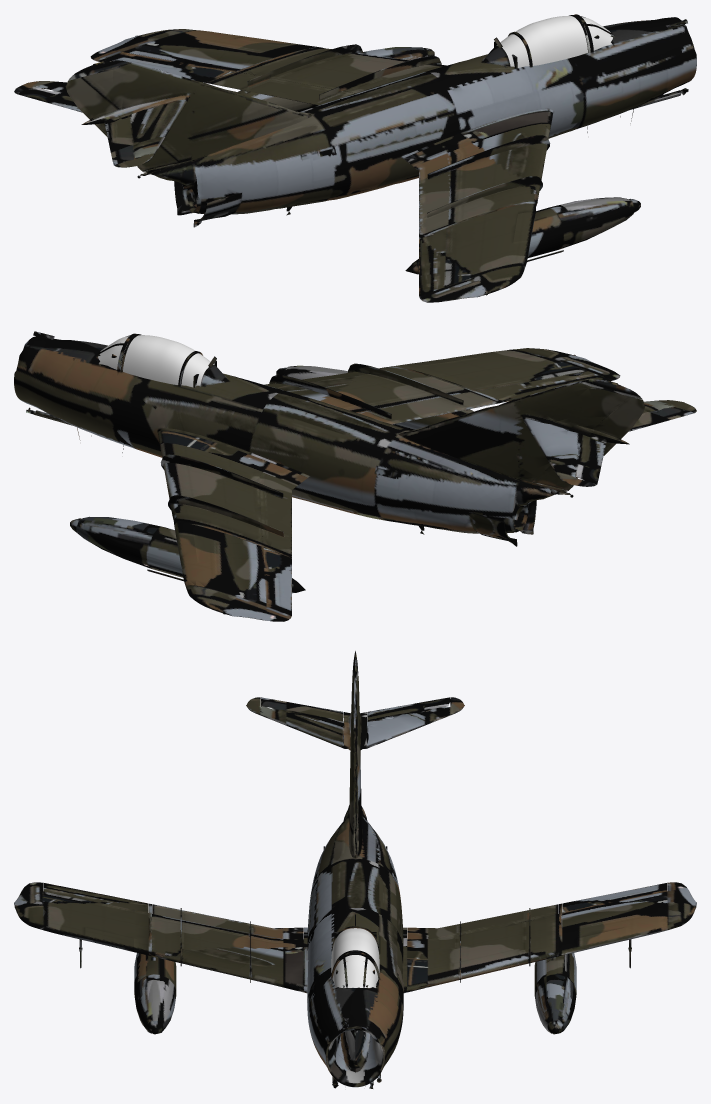
Rendered from fh_battle_fighter_t1.glb.
3 renders of one model, top to bottom at view 1: azimuth 30°, elevation 25°; view 2: azimuth 150°, elevation 25°; view 3: azimuth 270°, elevation 25°, orthographic. The views are drawn at different scales.
Visible parts, largest first — view 1: fh_battle_fighter_t1; view 2: fh_battle_fighter_t1; view 3: fh_battle_fighter_t1.
Part boxes in pixels (box(x1,y1,x2,y2)): fh_battle_fighter_t1: box(14, 14, 696, 302); fh_battle_fighter_t1: box(14, 331, 696, 621); fh_battle_fighter_t1: box(14, 651, 696, 1088).
Bounding box in the file's own units: 1 × 0.3073 × 0.9864.
Materials: 2 (1 with a texture image).
